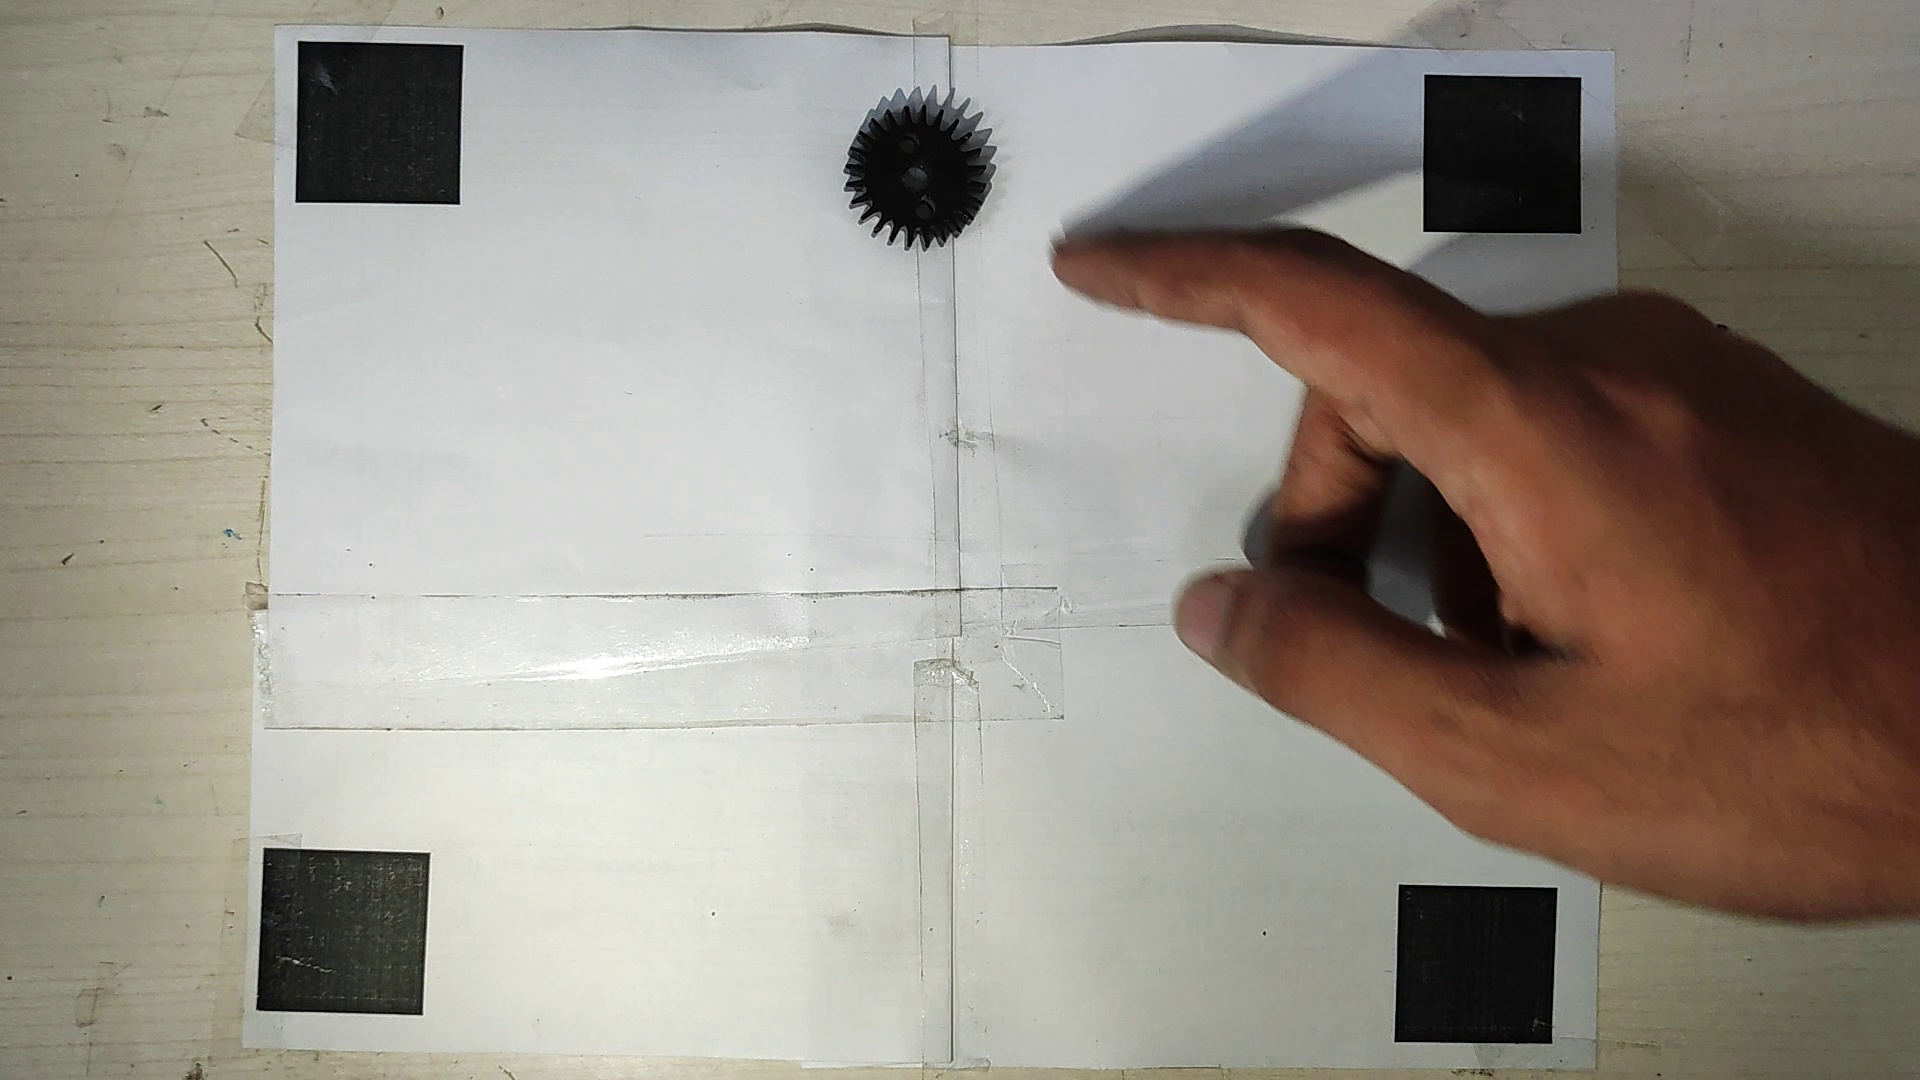Gear: (836, 102, 992, 251)
